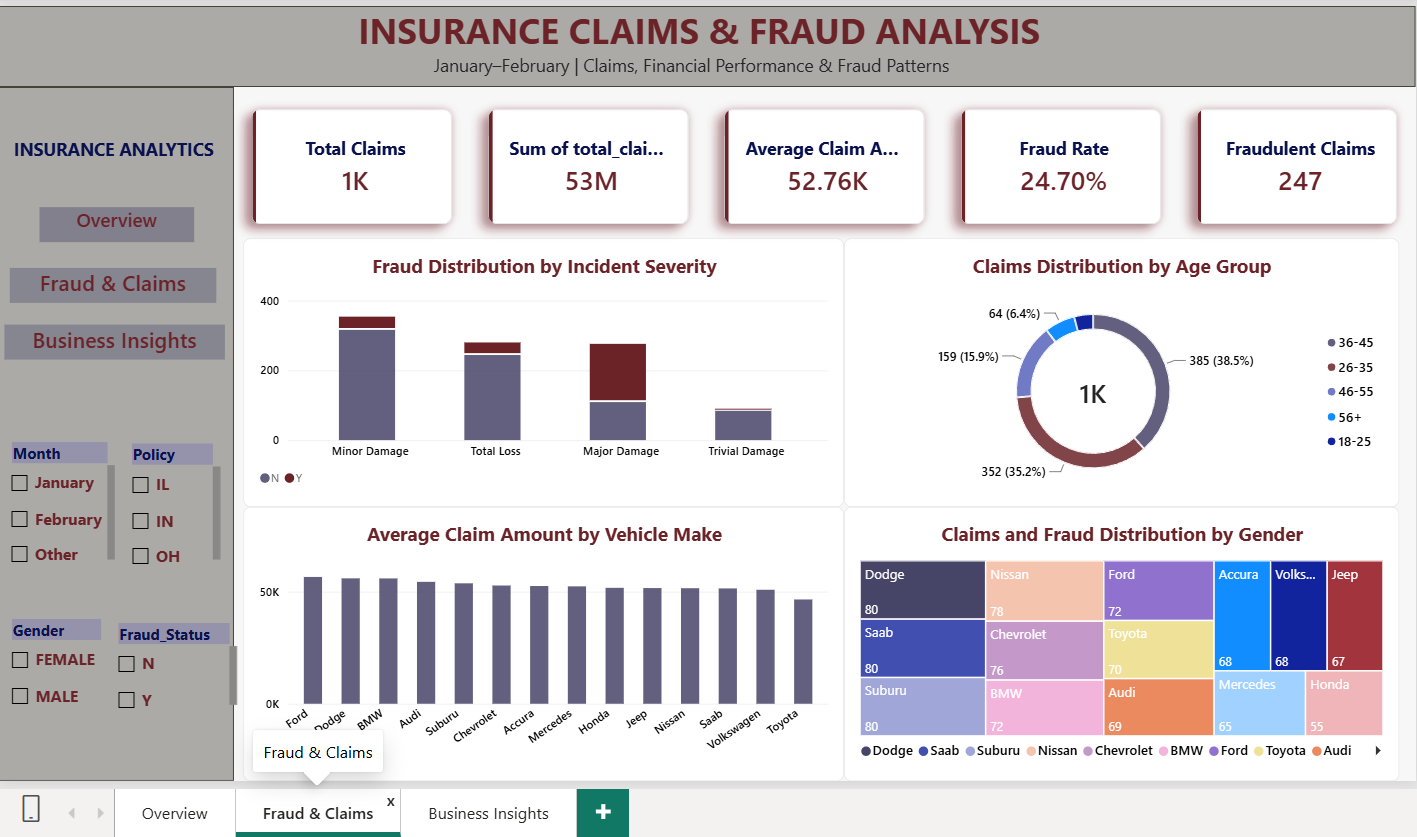

This screenshot's page, from the dashboard's own definition file:
{"tool":"powerbi","page":{"name":"Fraud & Claims","canvas":[1500,820],"ordinal":1},"visuals":[{"type":"columnChart","title":"Fraud Distribution by Incident Severity","fields":{"Category":["insurance dataset.incident_severity"],"Series":["insurance dataset.fraud_reported"],"Y":["insurance dataset.Total Claims"]},"box":[258.6,245.7,635.7,284.3],"z":0},{"type":"donutChart","title":"Claims Distribution by Age Group","fields":{"Category":["insurance dataset.Age Group"],"Y":["insurance dataset.Total Claims"]},"box":[894.3,245.7,587.1,284.3],"z":1000},{"type":"shape","box":[0,0,1500,85.7],"z":2000},{"type":"shape","box":[0,85.7,248.6,734.3],"z":3000},{"type":"treemap","title":"Claims and Fraud Distribution by Gender","fields":{"Group":["insurance dataset.auto_make"],"Values":["insurance dataset.Total Claims"]},"box":[894.3,530,587.1,290],"z":4000},{"type":"clusteredColumnChart","title":"Average Claim Amount by Vehicle Make","fields":{"Category":["insurance dataset.auto_make"],"Y":["insurance dataset.Average Claim Amount"]},"box":[258.6,530,635.7,290],"z":5000},{"type":"textbox","box":[208.3,0,1065,50],"z":6000},{"type":"textbox","box":[408.3,50,648.3,35],"z":7000},{"type":"actionButton","title":"Overview","box":[43.3,213.3,163.3,36.7],"z":8000},{"type":"actionButton","title":"Fraud & Claims","box":[11.7,276.7,218.3,36.7],"z":9000},{"type":"textbox","box":[15,138.3,220,46.7],"z":10000},{"type":"actionButton","title":"Business Insights ","box":[5,336.7,233.3,36.7],"z":11000},{"type":"cardVisual","fields":{"Data":["insurance dataset.Total Claims","Sum(insurance dataset.total_claim_amount)","insurance dataset.Average Claim Amount","insurance dataset.Fraud Rate","insurance dataset.Fraudulent Claims"]},"box":[248.3,90,1251.7,160],"z":12000},{"type":"slicer","fields":{"Values":["insurance dataset.Incident Month Name"]},"box":[5,461.7,116.7,136.7],"z":13000},{"type":"slicer","fields":{"Values":["insurance dataset.fraud_reported"]},"box":[118.3,653.3,133.3,98.3],"z":14000},{"type":"slicer","fields":{"Values":["insurance dataset.policy_state"]},"box":[133.3,463.3,101.7,135],"z":15000},{"type":"slicer","fields":{"Values":["insurance dataset.insured_sex"]},"box":[5,648.3,110,108.3],"z":16000}]}

Visuals, with their boxes on the page's 1500x820 design canvas (x1, y1, x2, y2). These are canvas units, not pixel positions in the 1417x837 screenshot, which may show the page scaled, cropped or inside an application window:
"Fraud Distribution by Incident Severity" columnChart: [259,246,894,530]
"Claims Distribution by Age Group" donutChart: [894,246,1481,530]
shape: [0,0,1500,86]
shape: [0,86,249,820]
"Claims and Fraud Distribution by Gender" treemap: [894,530,1481,820]
"Average Claim Amount by Vehicle Make" clusteredColumnChart: [259,530,894,820]
textbox: [208,0,1273,50]
textbox: [408,50,1057,85]
"Overview" actionButton: [43,213,207,250]
"Fraud & Claims" actionButton: [12,277,230,313]
textbox: [15,138,235,185]
"Business Insights " actionButton: [5,337,238,373]
cardVisual - insurance dataset.Total Claims x Sum(insurance dataset.total_claim_amount): [248,90,1500,250]
slicer - insurance dataset.Incident Month Name: [5,462,122,598]
slicer - insurance dataset.fraud_reported: [118,653,252,752]
slicer - insurance dataset.policy_state: [133,463,235,598]
slicer - insurance dataset.insured_sex: [5,648,115,757]
